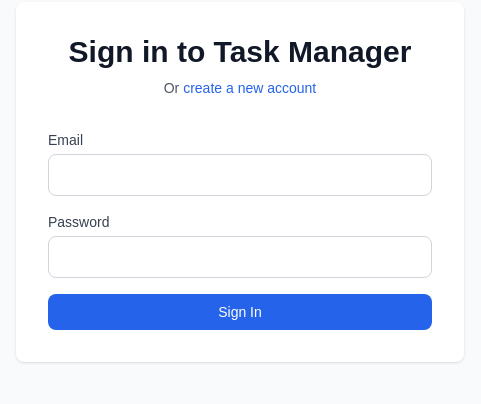
Scenario: Authentication › Login › should show validation errors for empty fields
The image size is (481, 404).
Click the submit button.
click(240, 312)  # box 48,294 -> 432,330
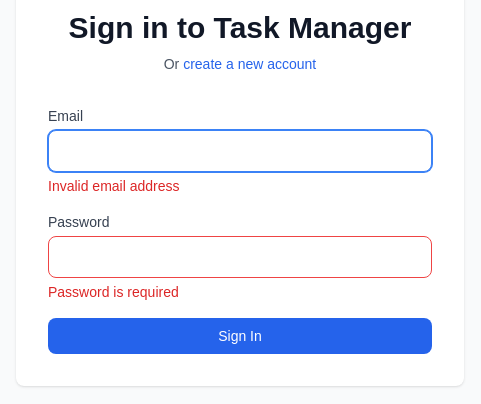
expect the text "Invalid email" is shown: met, box 48,178 -> 180,194
